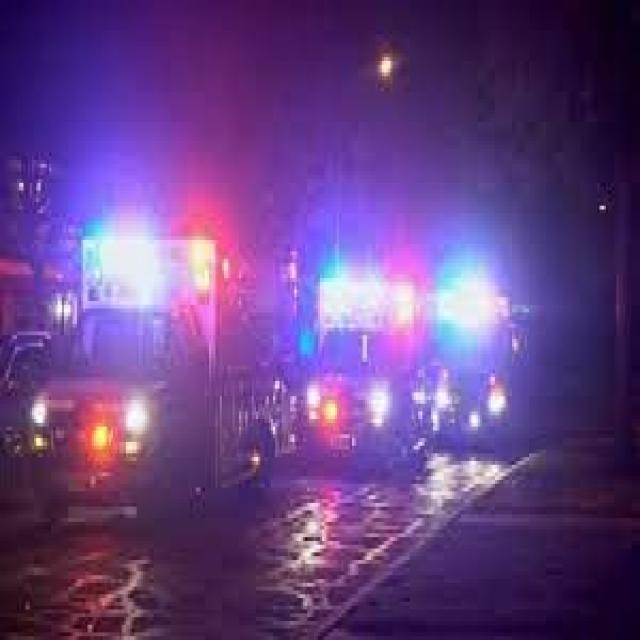ambulance: (306, 246, 519, 471), (81, 229, 266, 320)
